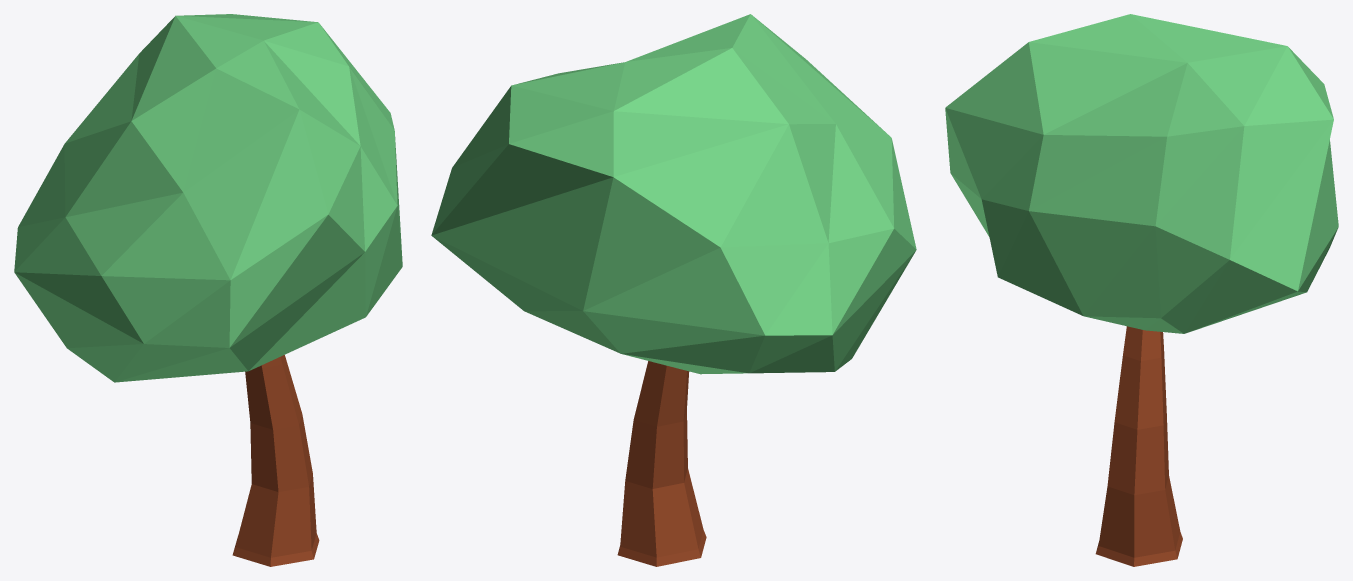
Rendered from AppleTree_Sapling.fbx.
3 renders of one model, left to right at view 1: azimuth 30°, elevation 25°; view 2: azimuth 150°, elevation 25°; view 3: azimuth 270°, elevation 25°, orthographic. The views are drawn at different scales.
Parts seen in each view (by area): view 1: AppleTreeModel; view 2: AppleTreeModel; view 3: AppleTreeModel.
Part boxes in pixels (x1,y1,x2,y2): AppleTreeModel: (14,14,402,566); AppleTreeModel: (431,14,916,566); AppleTreeModel: (945,14,1338,566).
Bounding box in the file's own units: 705 × 900 × 640.
